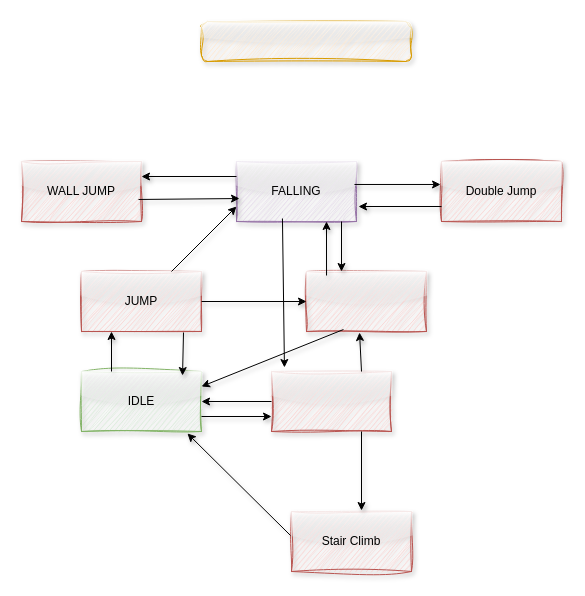
Image size: 585x596. Some labels were removed from this diagram. Each missing label, with the centre of its shape:
"DASH" belongs at point (367, 302).
"MOVE" belongs at point (332, 402).
"Player State Machine" belongs at point (307, 42).
